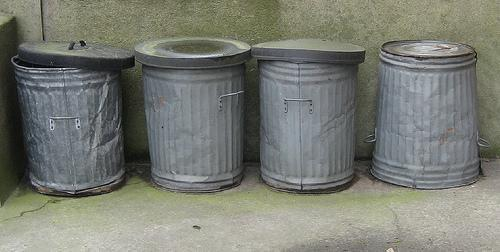Bote de Basura: (134, 33, 243, 190), (373, 35, 485, 184)
